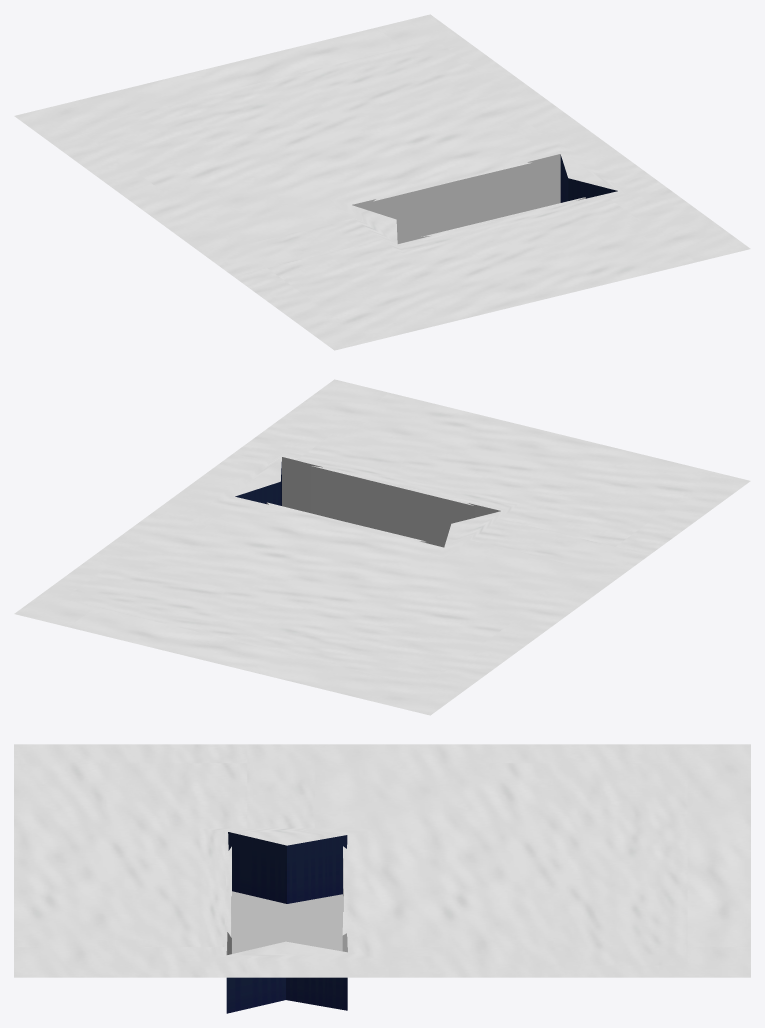
The model's file is trapS03.FBX.
3 views of the same model, one above another, from view 1: azimuth 30°, elevation 25°; view 2: azimuth 150°, elevation 25°; view 3: azimuth 270°, elevation 25° (orthographic). The views are drawn at different scales.
Visible parts, largest first — view 1: Object045; view 2: Object045; view 3: Object045.
Boxes of the visible parts, x1,y1,x2,y2 form: Object045: (14, 14, 750, 350); Object045: (14, 379, 750, 715); Object045: (14, 744, 750, 1013).
Size of the model in its own units: 600 by 70 by 800.
